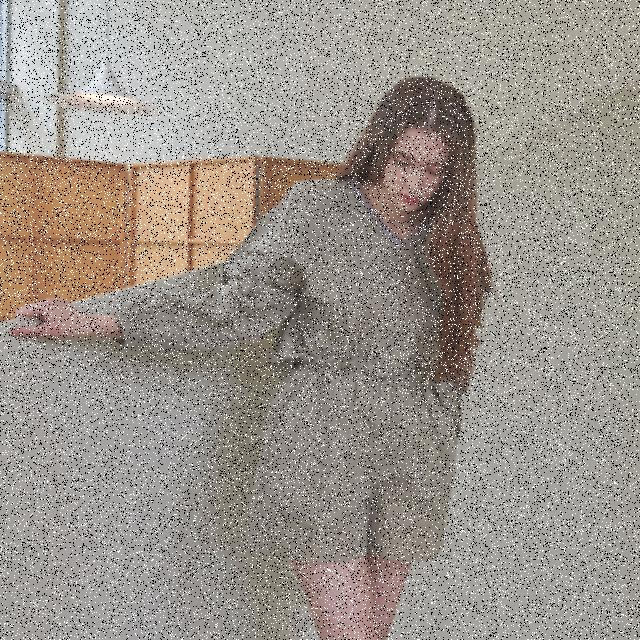Blouse_deep: (266, 355, 442, 546)
